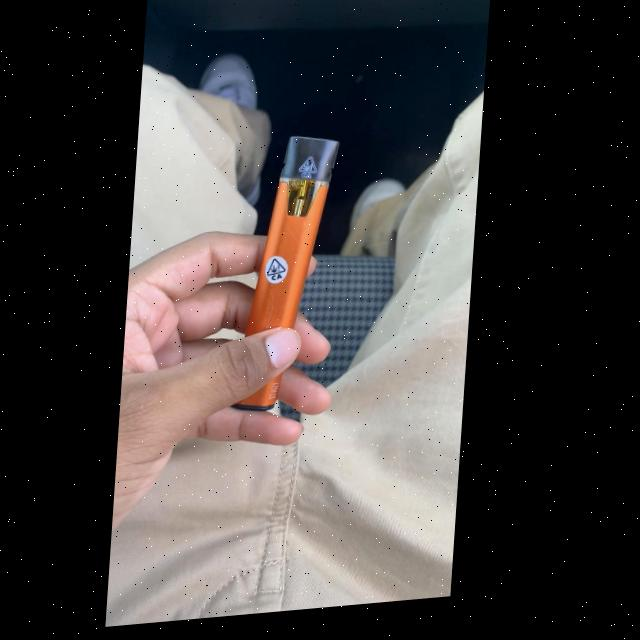vape: (234, 136, 345, 415)
